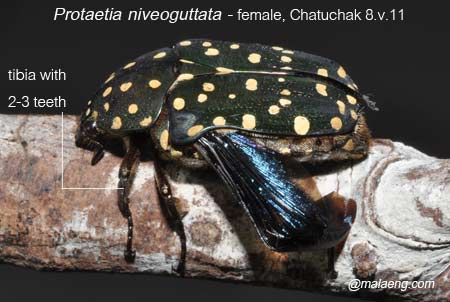Protaetia_niveoguttata: (71, 35, 378, 271)
